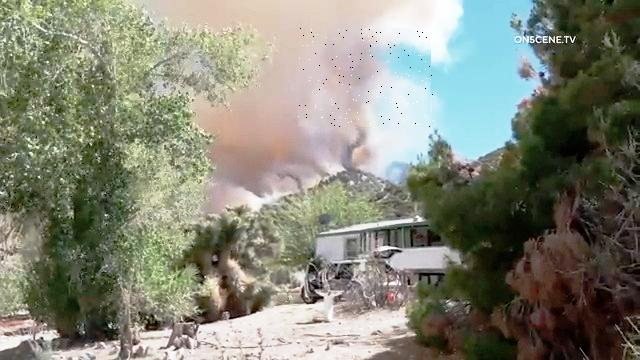smoke: (299, 28, 435, 127)
